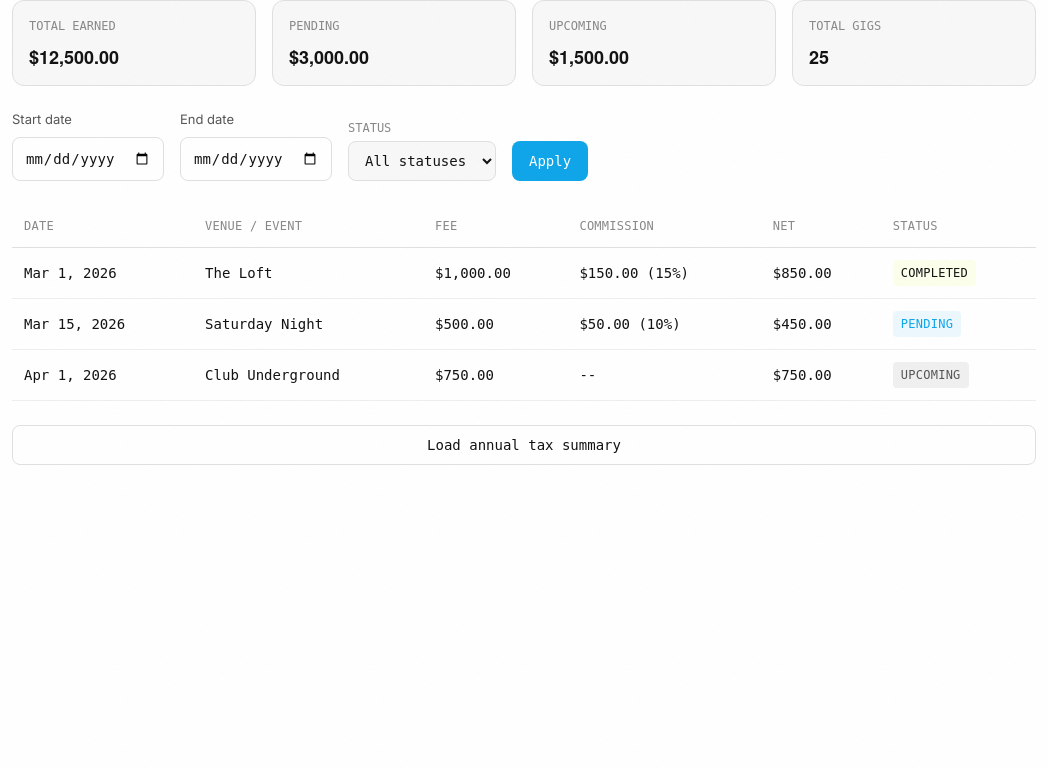
Test: EarningsDashboard › loads annual summary on button click
What coordinates should you click on to do the following:
click the button "Load annual tax summary"
I would click on:
 (524, 445)
Its box is [12,425,1036,465].
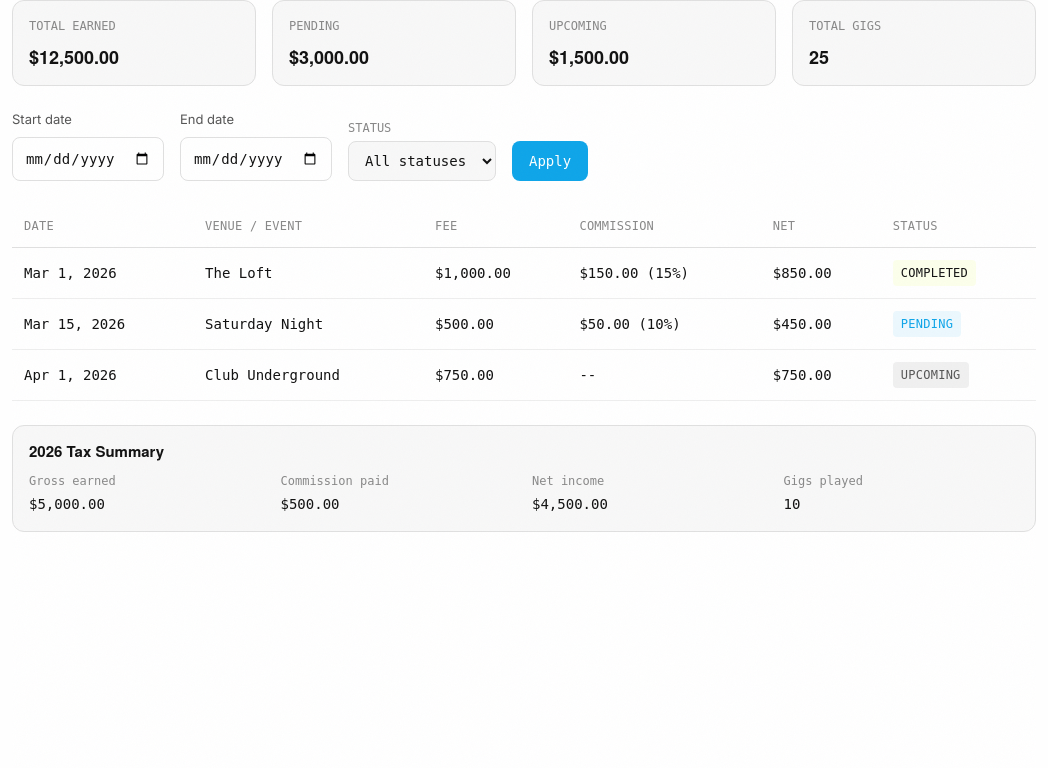
Expected: the heading "2026 Tax Summary" is shown, [29,442,164,460]
